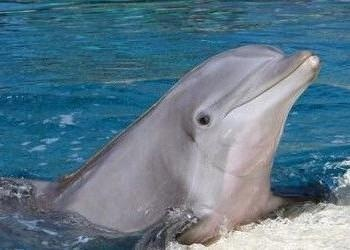fish: (1, 45, 329, 244)
